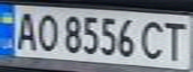5: (96, 15, 121, 57), (78, 14, 103, 56)
6: (115, 16, 142, 58)
8: (60, 11, 81, 54)
A: (9, 8, 39, 52)
C: (139, 17, 169, 61)
O: (33, 10, 60, 53)
T: (160, 18, 190, 63)
